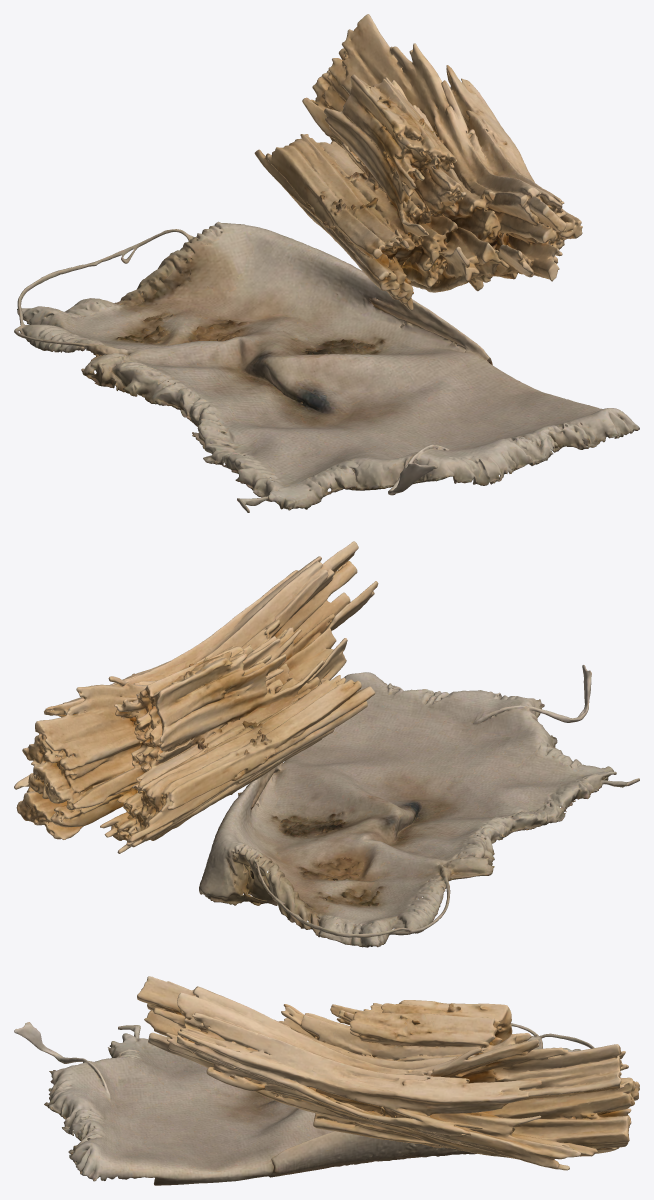
File: wright_scrap.glb
3 views of the same model, one above another, from view 1: azimuth 30°, elevation 25°; view 2: azimuth 150°, elevation 25°; view 3: azimuth 270°, elevation 25° (orthographic). The views are drawn at different scales.
Visible parts, largest first — view 1: world; view 2: world; view 3: world.
Part boxes in pixels (x1,y1,x2,y2): world: [14, 14, 639, 512]; world: [14, 541, 639, 947]; world: [14, 976, 639, 1185].
Size of the model in its own units: 0.7285 by 0.3515 by 1.
Materials: 1 (1 with a texture image).
